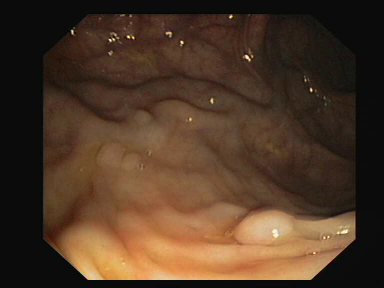polyp: (224, 196, 307, 251), (93, 129, 160, 179), (126, 96, 167, 133)
